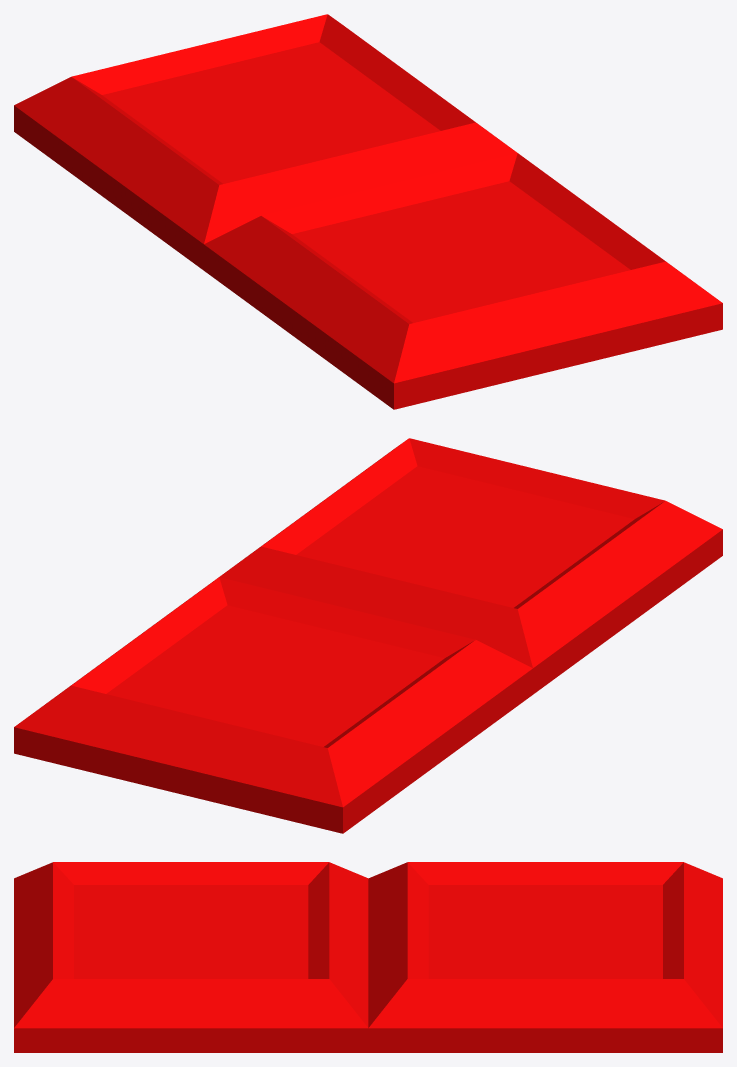
File: cookie.obj
3 renders of one model, top to bottom at view 1: azimuth 30°, elevation 25°; view 2: azimuth 150°, elevation 25°; view 3: azimuth 270°, elevation 25°, orthographic. The views are drawn at different scales.
Visible parts, largest first — view 1: 立方体.001; view 2: 立方体.001; view 3: 立方体.001.
Boxes of the visible parts, box(x1,y1,x2,y2) form: 立方体.001: box(14, 14, 722, 409); 立方体.001: box(14, 438, 722, 833); 立方体.001: box(14, 862, 722, 1052).
Size of the model in its own units: 2 by 0.3573 by 4.
